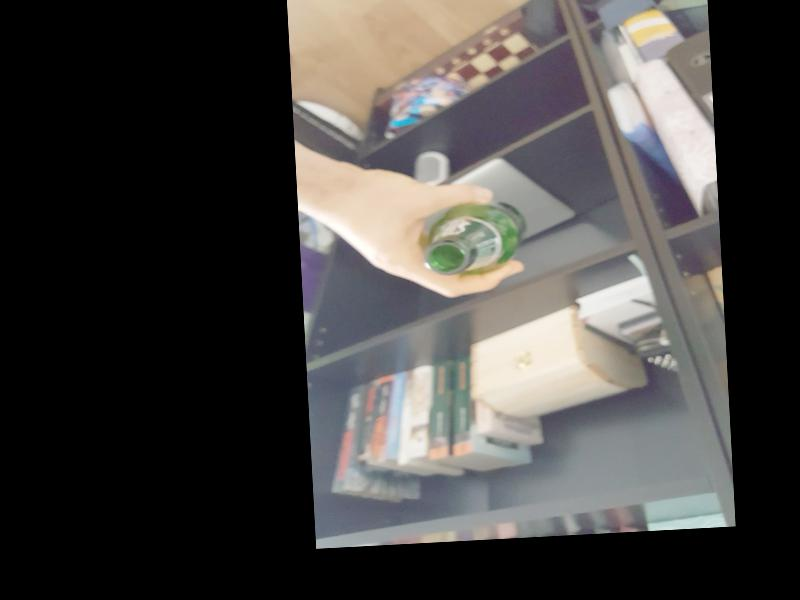Beer: (420, 196, 527, 275)
